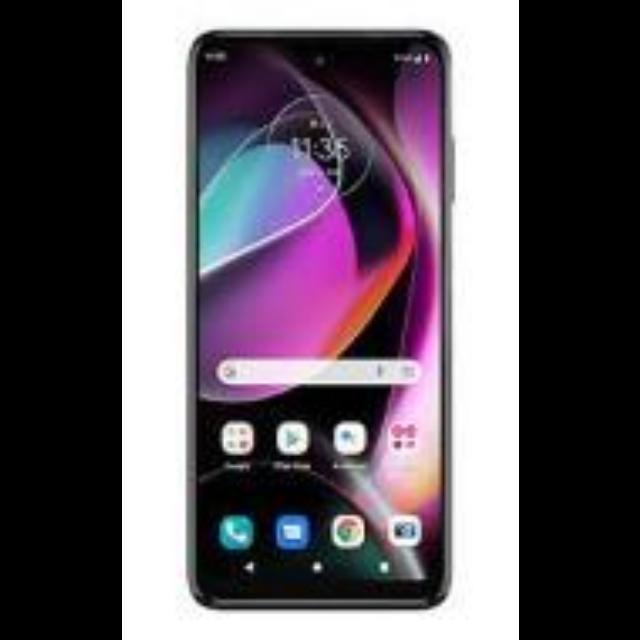Phone: (187, 26, 453, 608)
